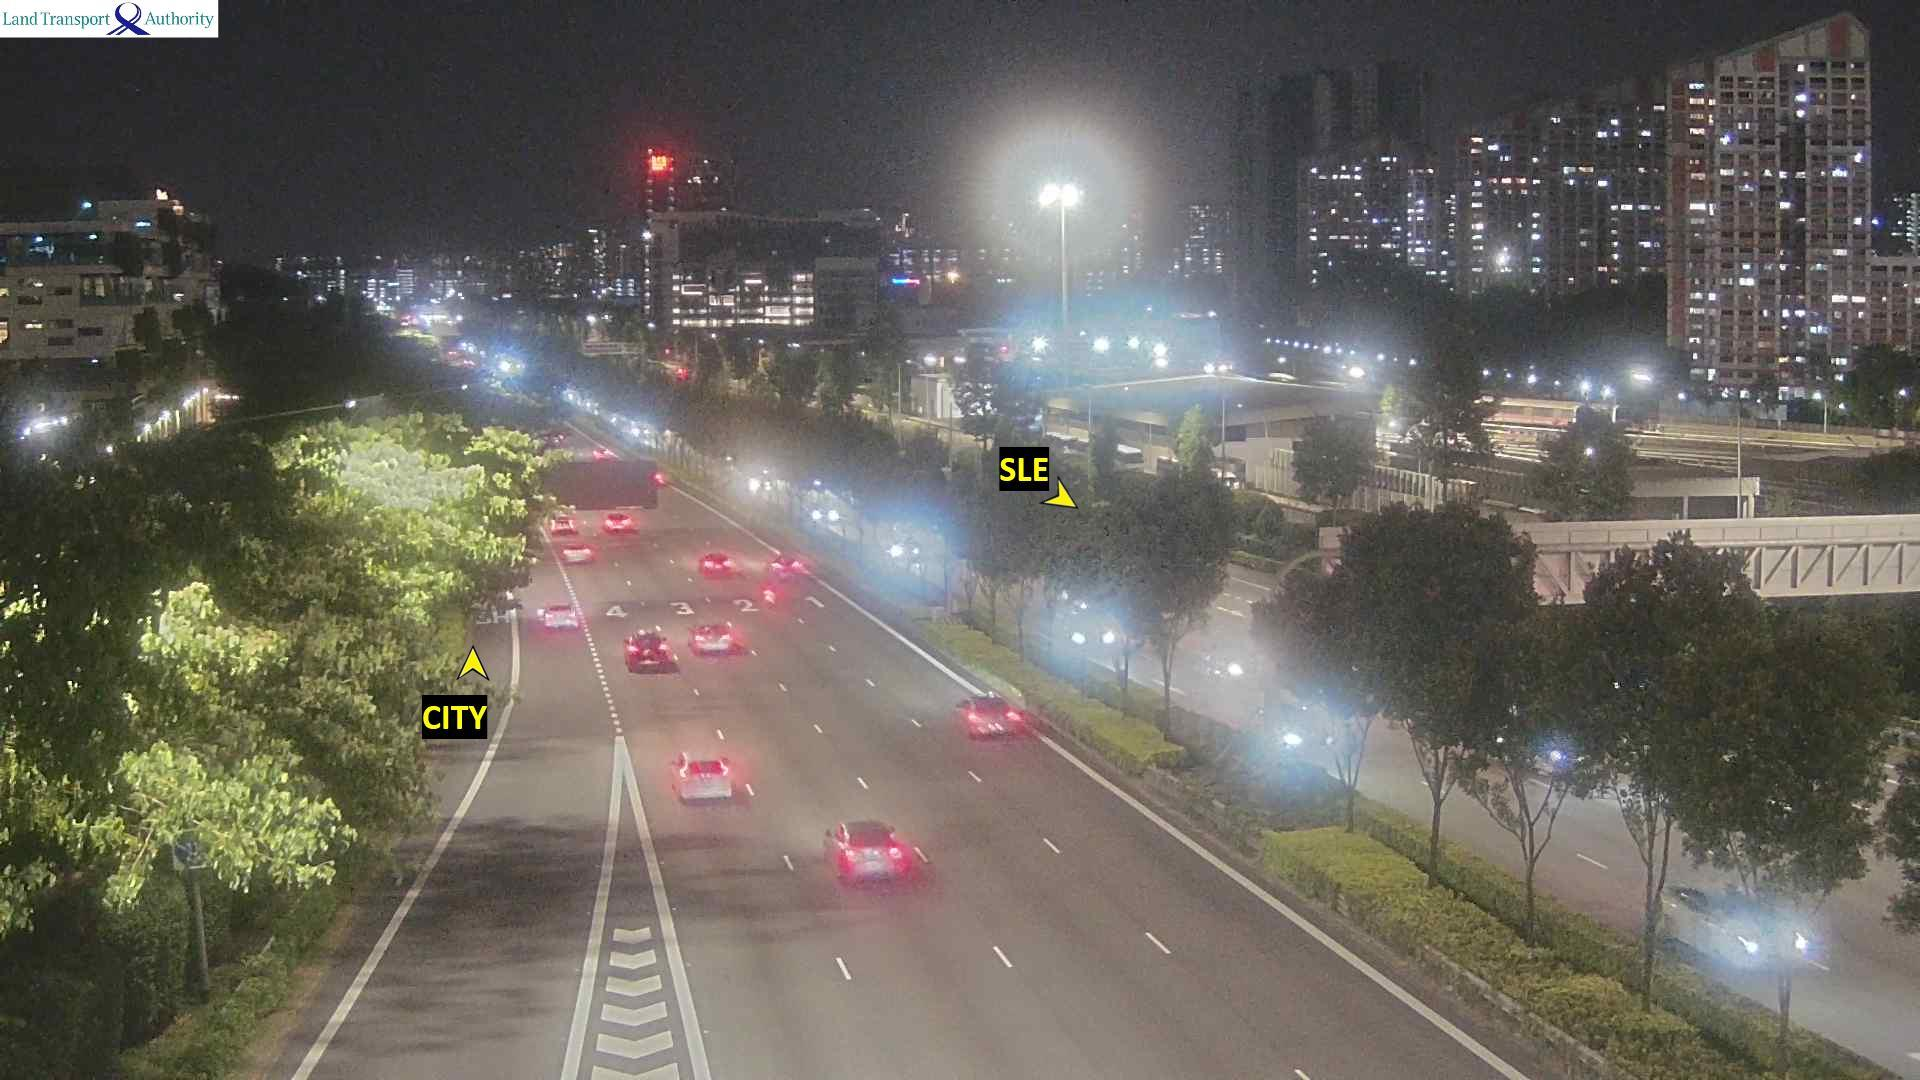cars: (1655, 882, 1826, 973), (822, 818, 917, 885), (1254, 686, 1336, 750), (667, 750, 733, 802), (954, 693, 1027, 740), (622, 625, 675, 672), (1062, 617, 1123, 653), (688, 620, 742, 656), (470, 588, 521, 623), (803, 500, 848, 530), (537, 601, 581, 629), (698, 550, 737, 578), (768, 552, 810, 578), (885, 537, 924, 562), (558, 542, 594, 564), (602, 510, 636, 533), (547, 512, 578, 535), (590, 446, 614, 463), (652, 471, 670, 488)
